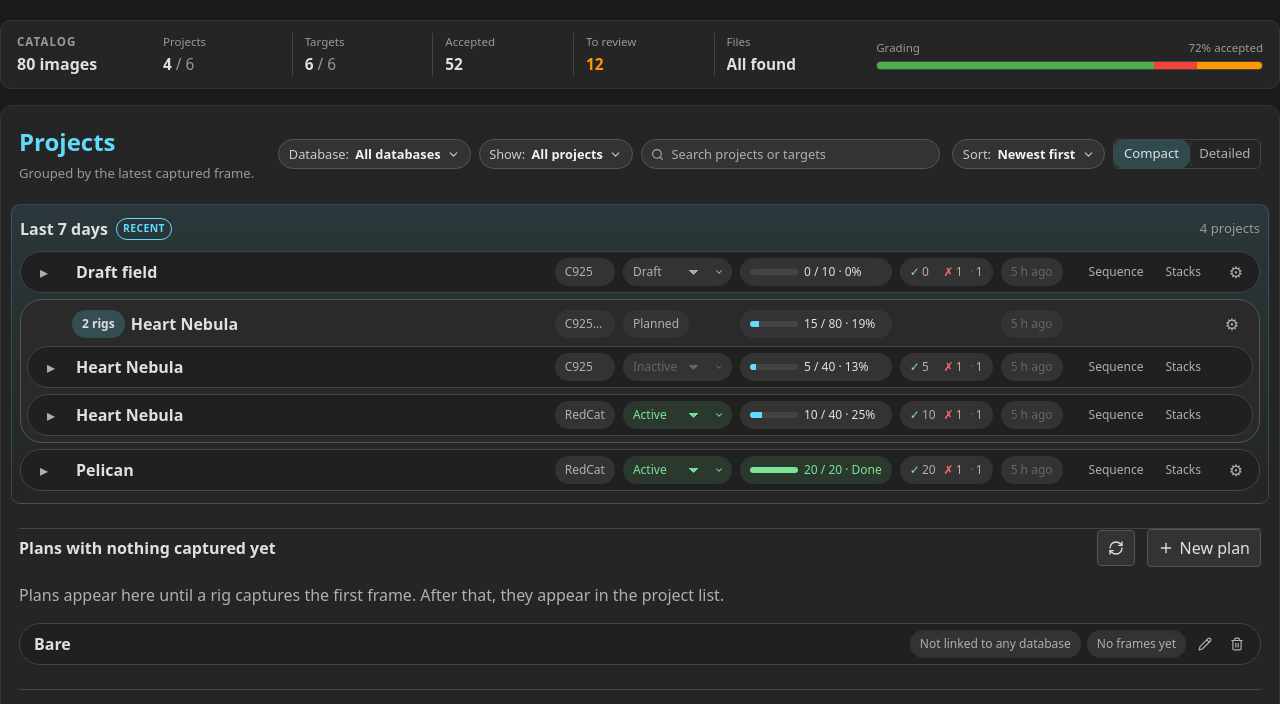
Scenario: the Library with Planning › changes a project's state in its database from the row, once confirmed
// Refused: nothing is written and the select keeps the saved state.
Select "Inactive" in the dropdown named "State of Pelican in RedCat" at [671, 470], box [633, 463, 710, 477]
Select "Inactive" in the dropdown named "State of Pelican in RedCat" at [671, 470], box [633, 463, 710, 477]
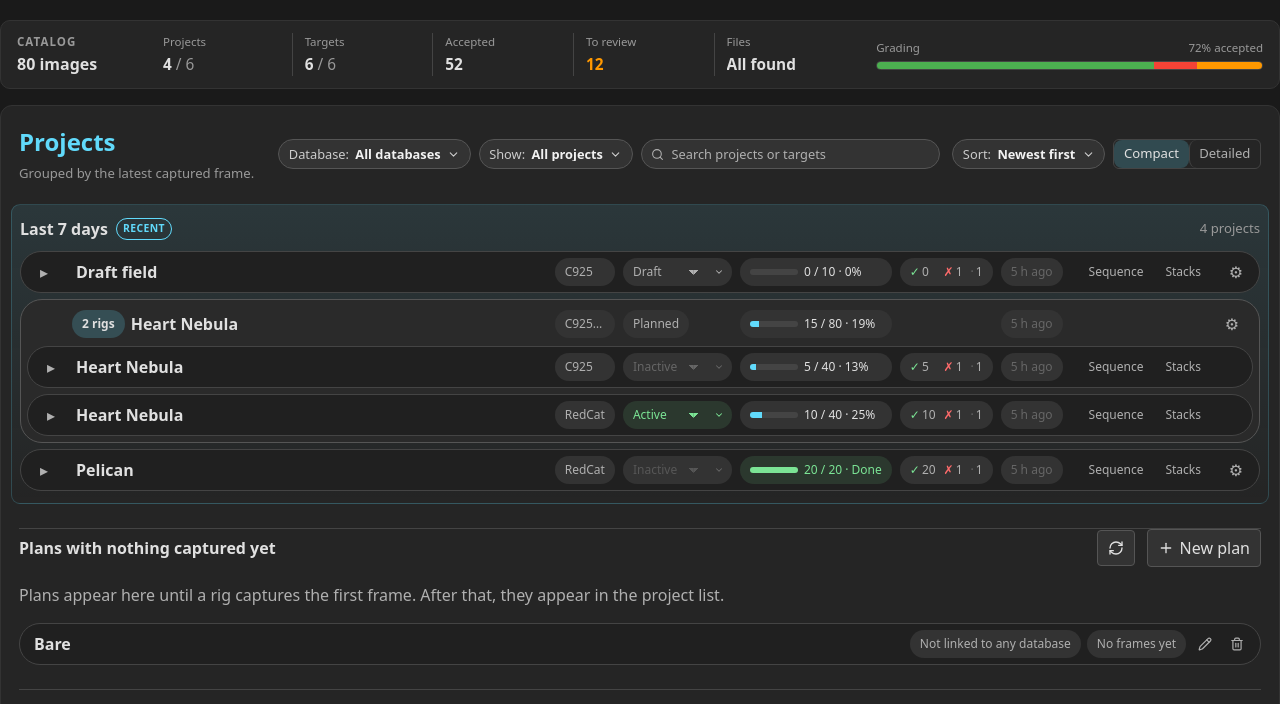
Now the dropdown named "State of Pelican in RedCat" is disabled
Select "Closed" in the dropdown named "State of Pelican in RedCat" at [671, 470], box [633, 463, 710, 477]
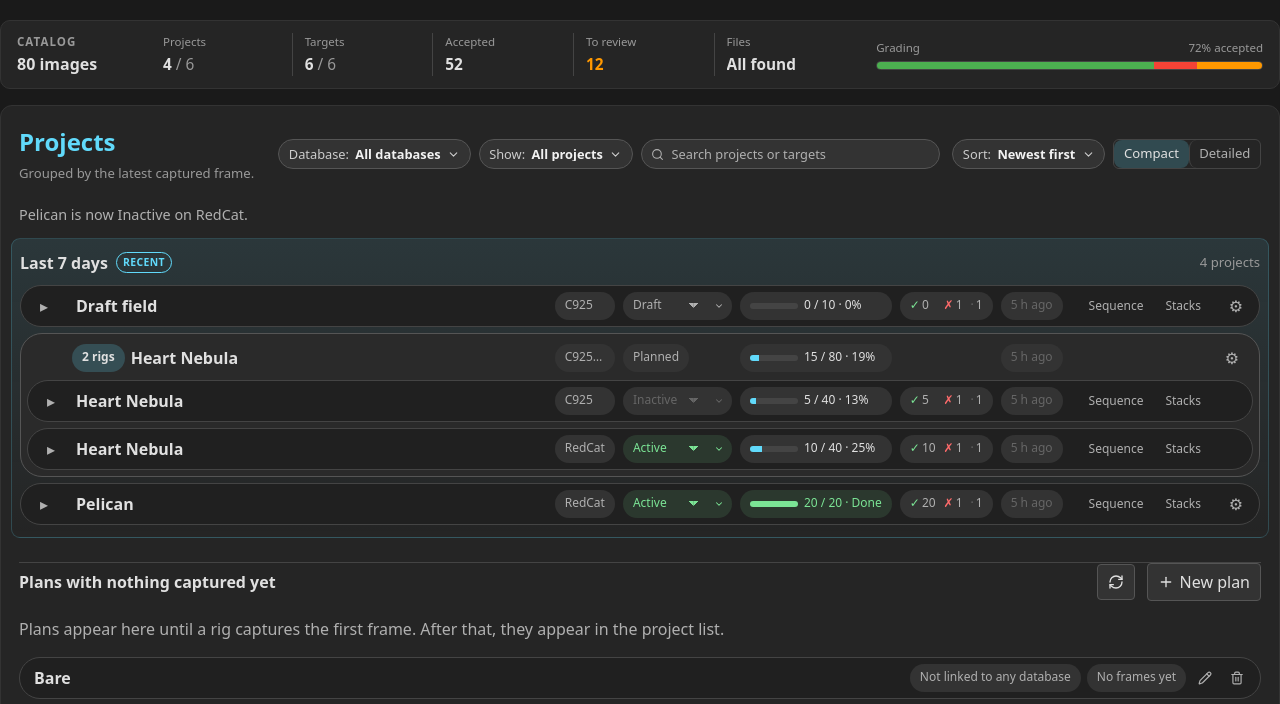
Now the text "Pelican is now Inactive on RedCat." is shown, box [19, 205, 248, 224]
Now the dropdown named "State of Pelican in RedCat" is enabled, box [633, 496, 710, 511]
